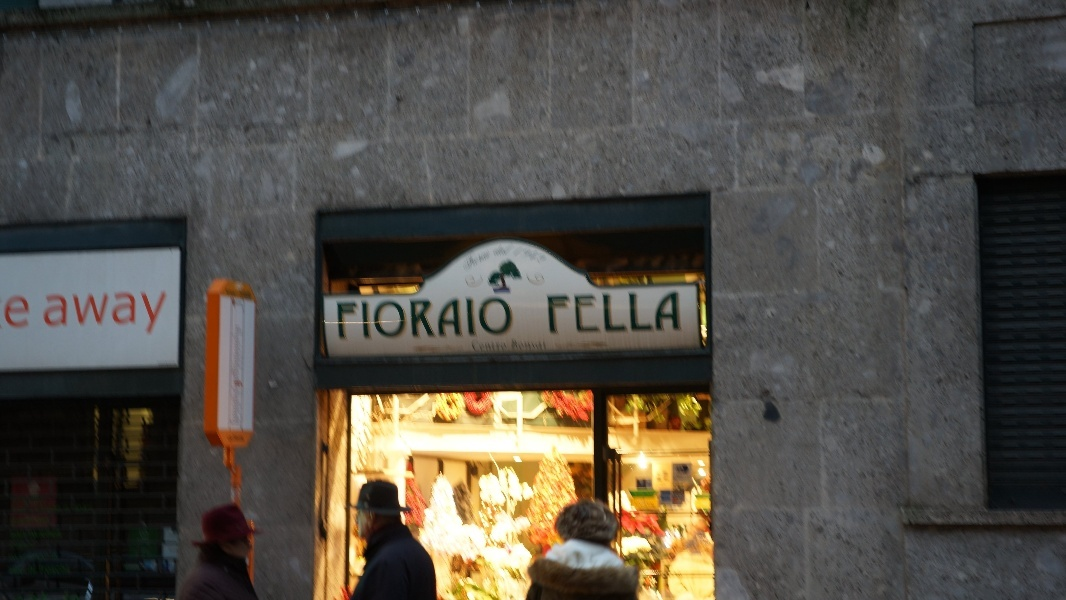text: (49, 292, 64, 341), (65, 292, 80, 341), (81, 292, 96, 341), (97, 292, 112, 341), (113, 292, 128, 341), (129, 292, 144, 341), (145, 292, 160, 341), (545, 290, 560, 336), (561, 290, 576, 336), (577, 290, 592, 336), (593, 290, 608, 336), (609, 290, 624, 336), (625, 290, 640, 336), (641, 290, 656, 336), (657, 290, 672, 336), (337, 298, 352, 343), (353, 298, 368, 343), (369, 298, 384, 343), (385, 298, 400, 343), (401, 298, 416, 343), (417, 298, 432, 343), (433, 298, 448, 343), (449, 298, 464, 343), (465, 298, 480, 343), (481, 298, 496, 343), (497, 298, 512, 343), (673, 290, 685, 336), (161, 292, 170, 341), (17, 296, 30, 329), (4, 296, 16, 329), (44, 292, 48, 341), (334, 298, 336, 343), (513, 298, 515, 343)
